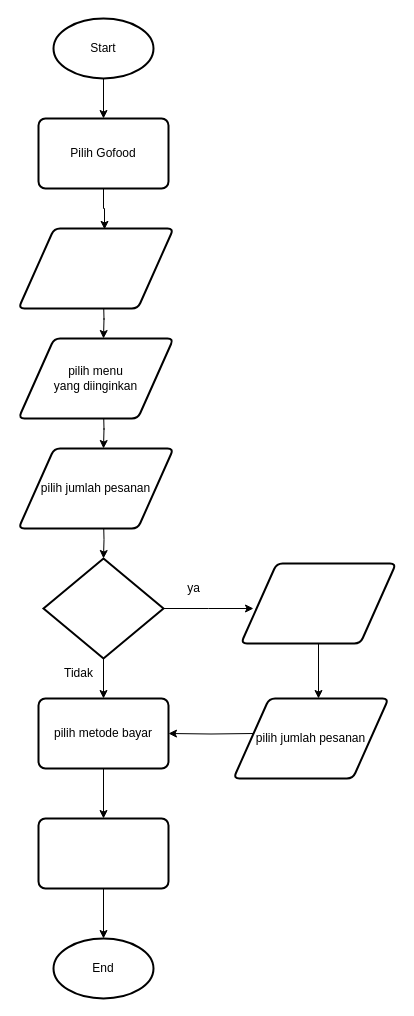
Some shapes in this 414 by 1016 pixel diagram are drawn without their labels. Each missing label, with the centre of its shape:
"Apakah ingin menambah makanan lain" goes at pixel 103 608.
"Makanan diantarkan" goes at pixel 103 853.
"pilih makanan lain" goes at pixel 318 603.
"pilih restoran yang diinginkan" goes at pixel 95 268.
